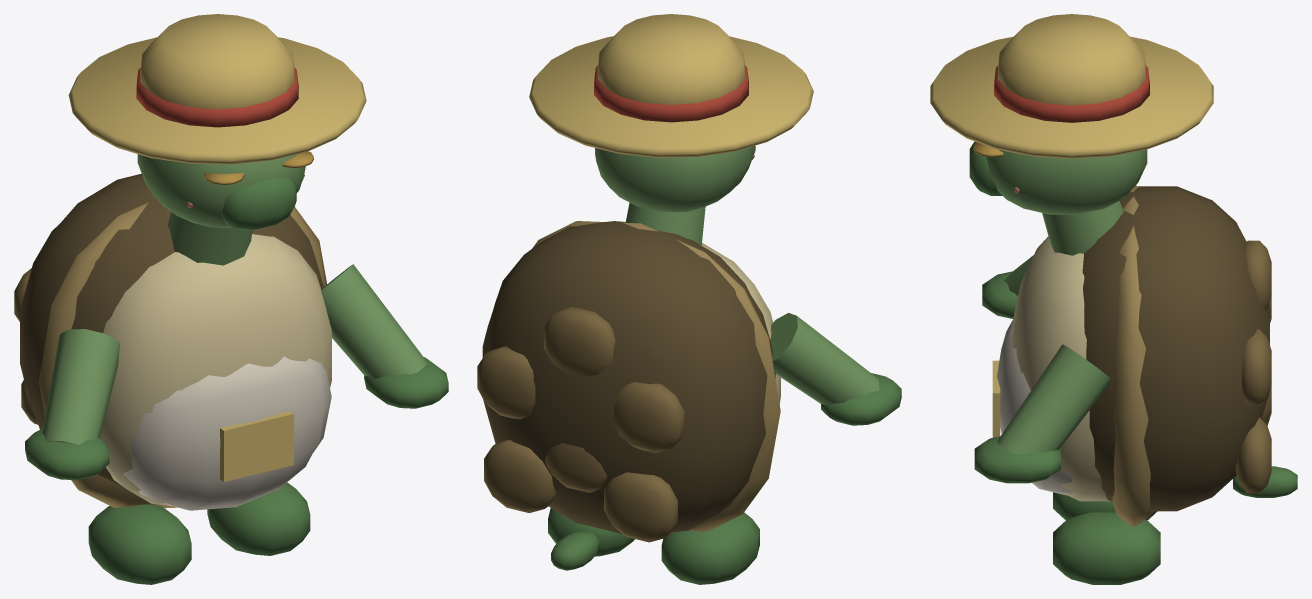
The model's file is dune.glb.
3 views of the same model, side by side, from view 1: azimuth 30°, elevation 25°; view 2: azimuth 150°, elevation 25°; view 3: azimuth 270°, elevation 25° (orthographic). The views are drawn at different scales.
Visible parts, largest first — view 1: Dune_Body, Dune_Head, Dune_ArmR, Dune_ArmL; view 2: Dune_Body, Dune_Head, Dune_ArmR, Dune_Tail; view 3: Dune_Body, Dune_Head, Dune_ArmL, Dune_ArmR, Dune_Tail.
Part boxes in pixels (x1,y1,x2,y2): Dune_Body: [14, 173, 331, 584]; Dune_Head: [68, 14, 366, 265]; Dune_ArmR: [25, 329, 119, 480]; Dune_ArmL: [321, 264, 448, 408]; Dune_Body: [477, 221, 780, 584]; Dune_Head: [529, 14, 813, 245]; Dune_ArmR: [770, 313, 901, 425]; Dune_Tail: [551, 530, 599, 570]; Dune_Body: [992, 185, 1271, 584]; Dune_Head: [930, 14, 1213, 255]; Dune_ArmL: [974, 344, 1111, 483]; Dune_ArmR: [982, 255, 1033, 318]; Dune_Tail: [1233, 466, 1297, 497].
Bounding box in the file's own units: 1.15 × 1.47 × 0.9498.
